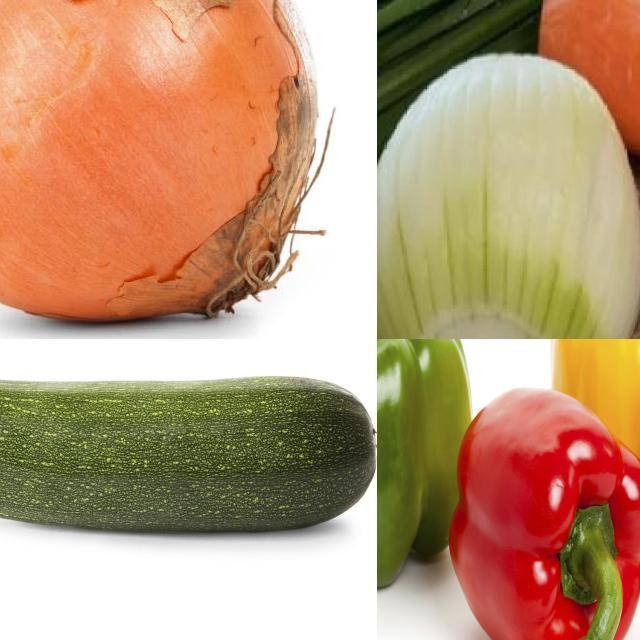bell_pepper: (455, 385, 640, 640), (378, 340, 460, 595), (550, 340, 640, 531)
carrot: (530, 1, 640, 277)
onion: (1, 1, 319, 326), (378, 43, 640, 340)
zucchini: (1, 340, 377, 551)
